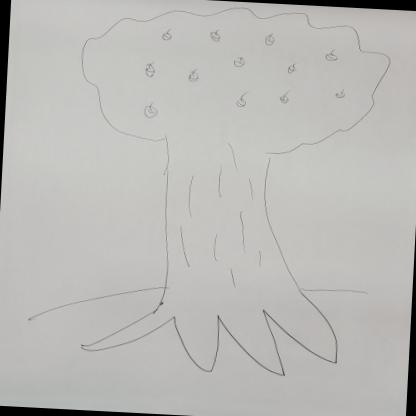apple: (143, 101, 158, 119), (144, 59, 156, 77), (236, 90, 248, 107), (326, 47, 338, 63), (188, 66, 200, 82), (208, 28, 221, 42), (160, 27, 173, 40), (286, 62, 300, 74), (334, 88, 348, 99), (264, 32, 275, 46), (233, 56, 245, 68), (280, 90, 290, 104)
crown_cloud: (76, 0, 392, 157)
root_upside: (79, 272, 342, 380)
trunk_bark: (159, 148, 293, 265)
